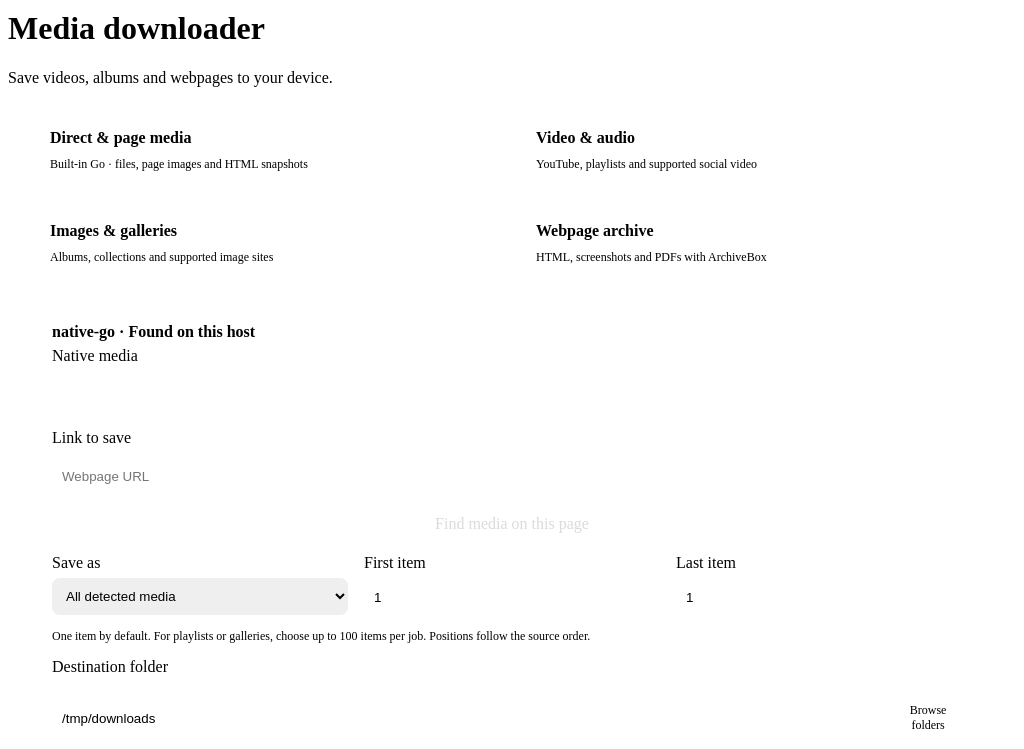
Media downloader › redacts queue and preview source credentials, queries and fragments from display and accessible names
Type "https://example.org/page" into the field labelled "Link to save" at (522, 477), box [52,459,992,494]
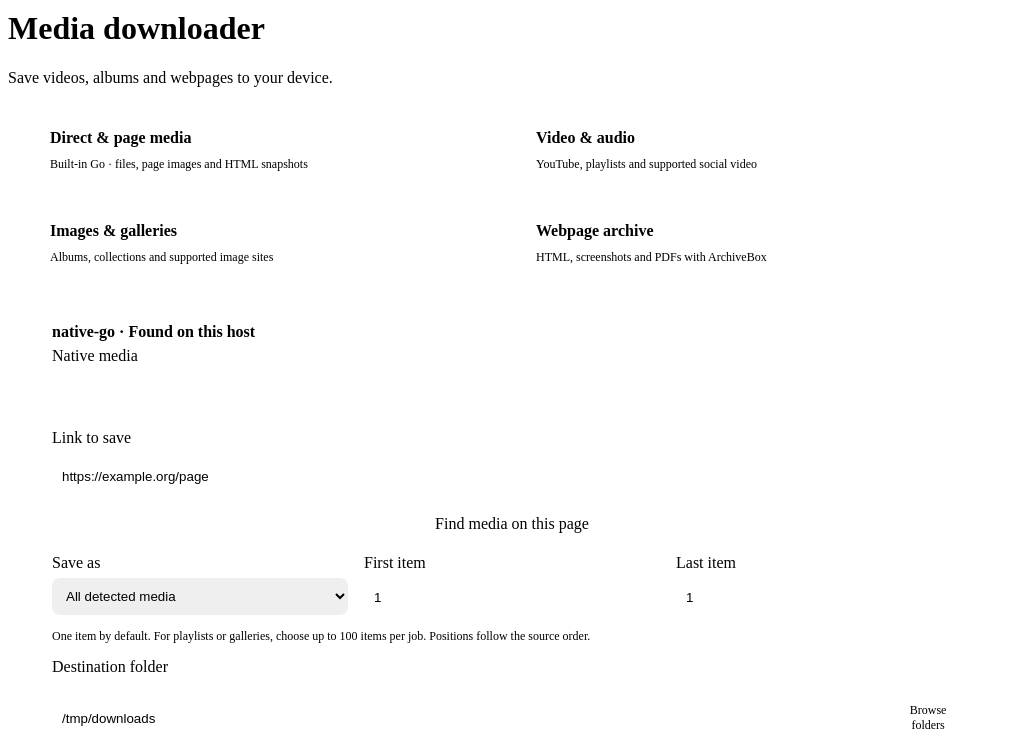
Click the button "Find media on this page" at (512, 524), box [52,506,972,542]
(page scrolled)
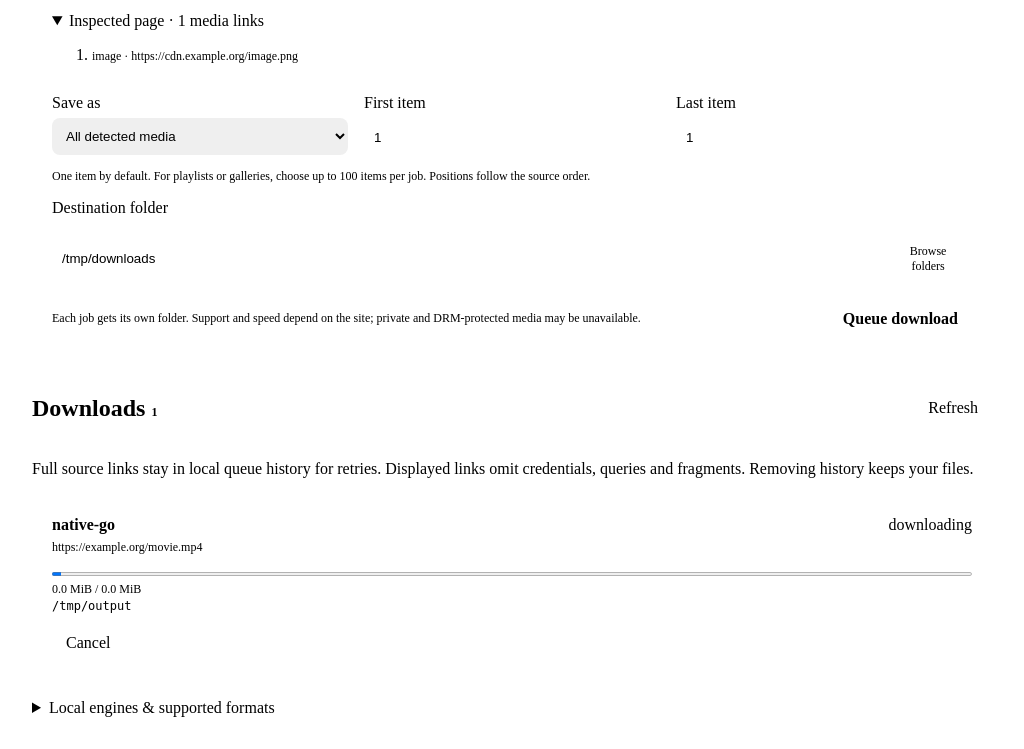
Check: the text "https://example.org/movie.mp4" is shown, box [52,540,202,554]
Check: the text "image · https://cdn.example.org/image.png" is shown, box [92,49,298,63]
